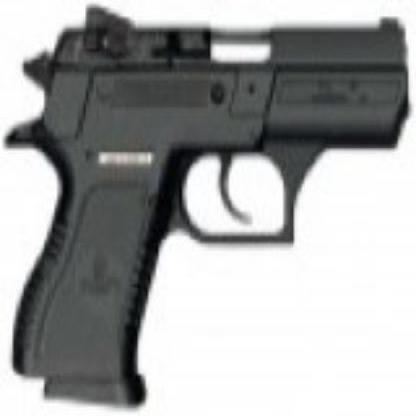pistol: (10, 0, 407, 405)
